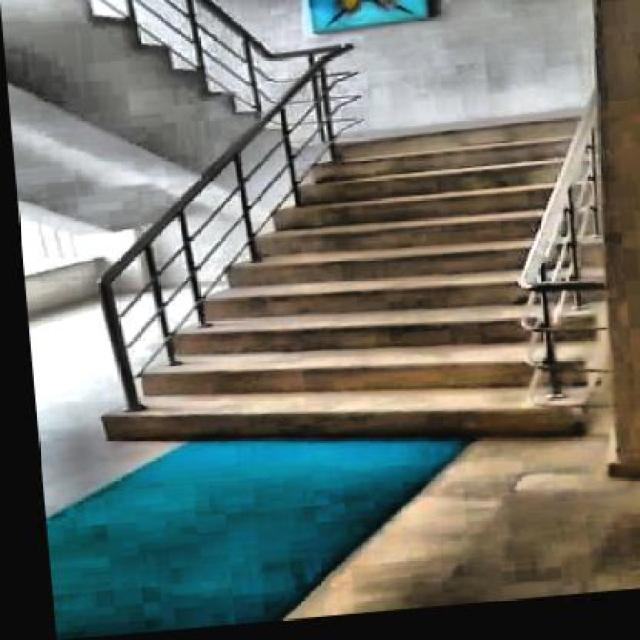stair: (52, 97, 611, 481)
